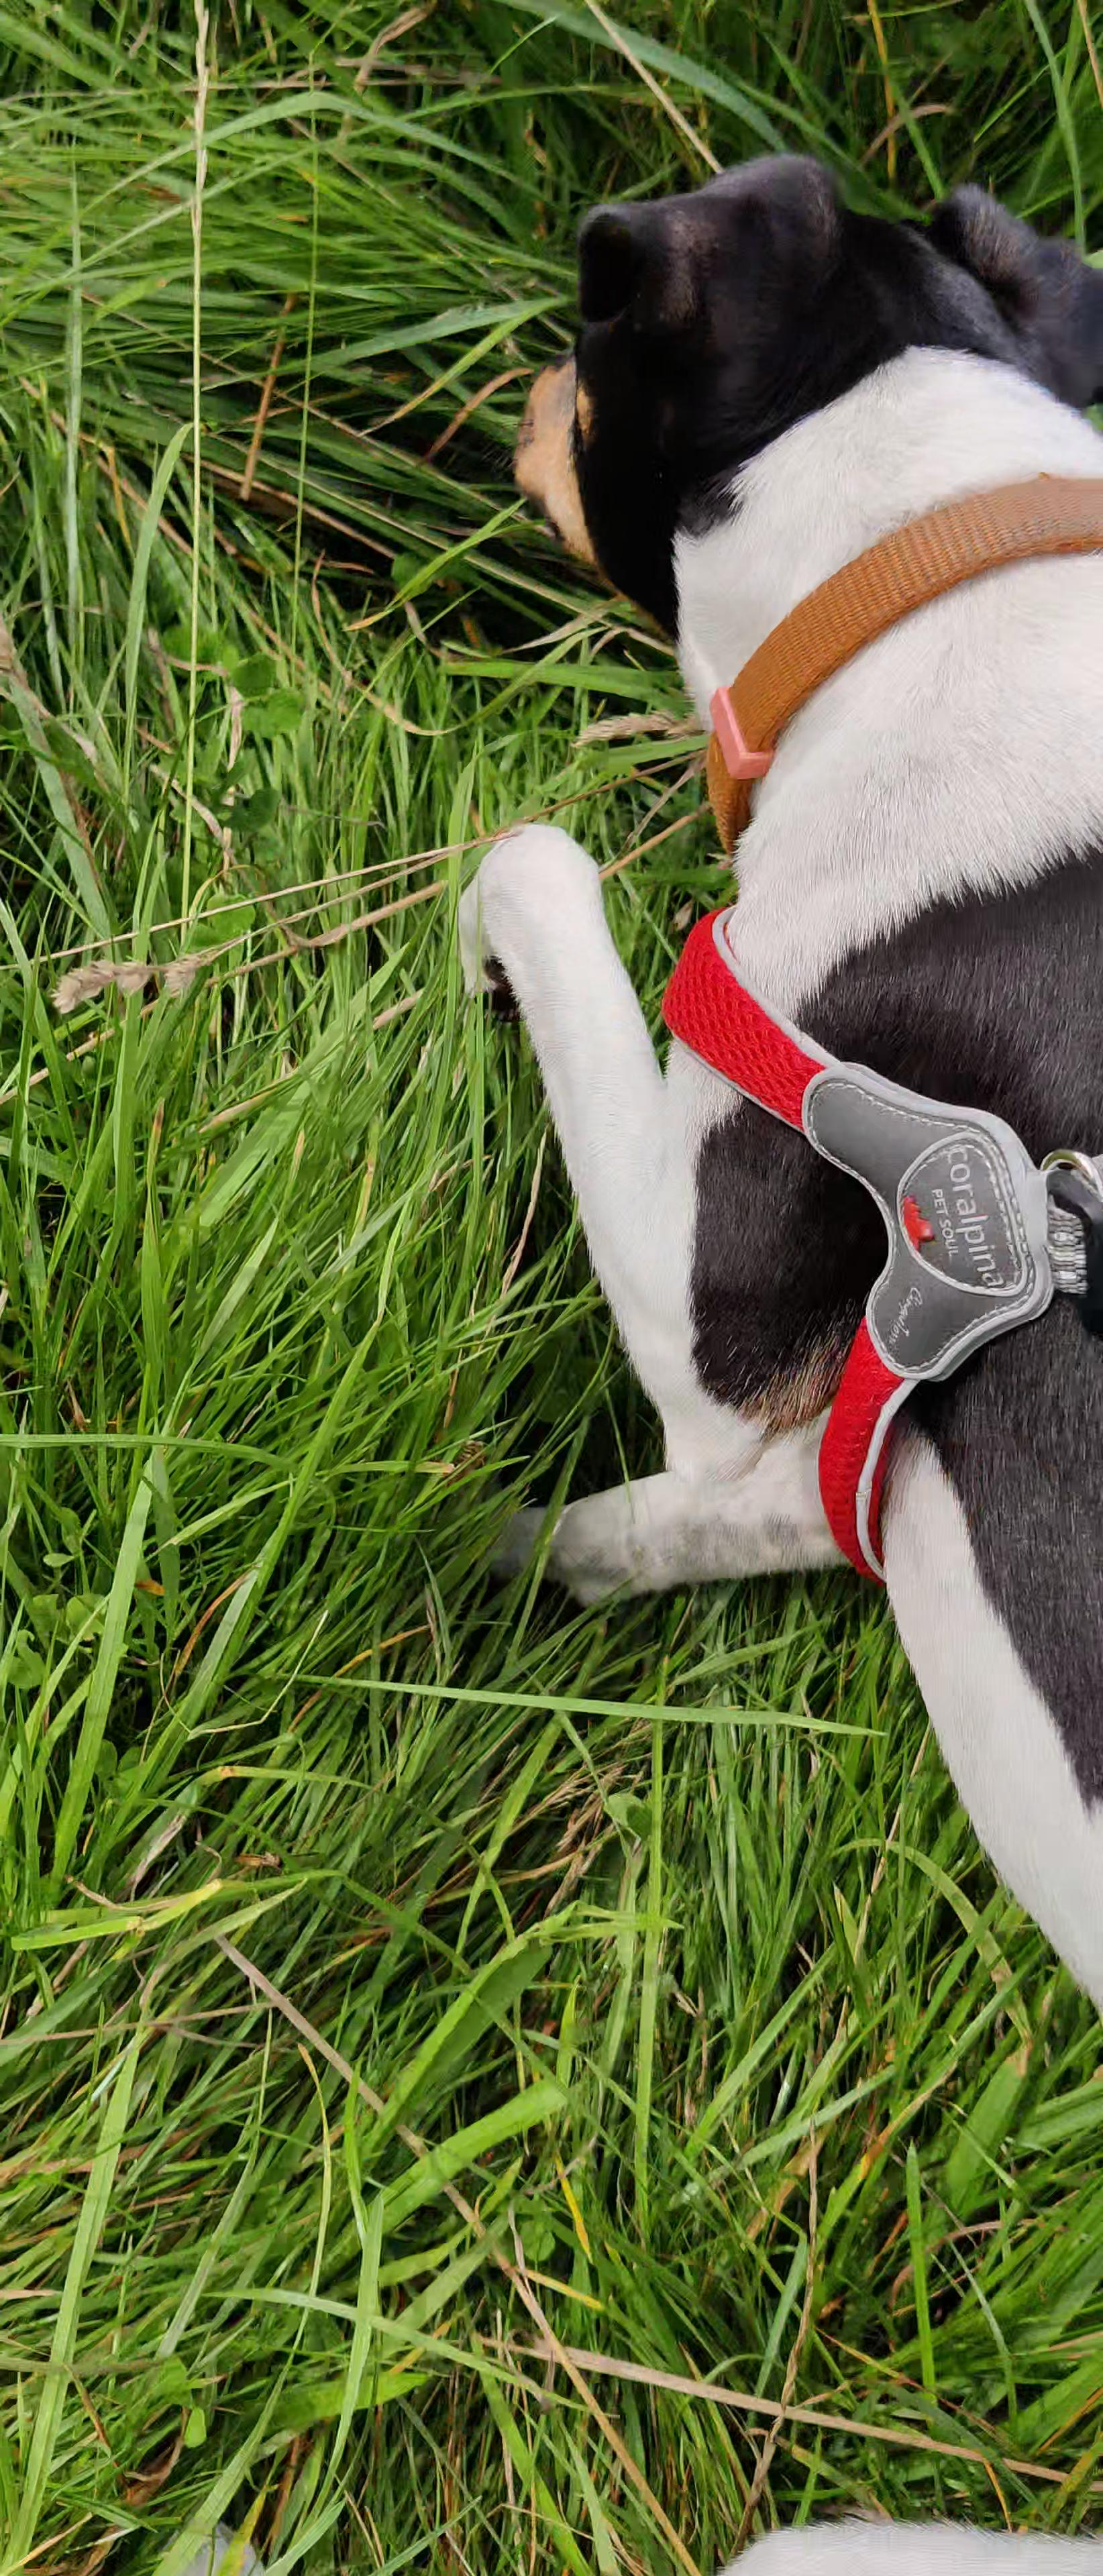Dog: (373, 102, 1103, 2576)
